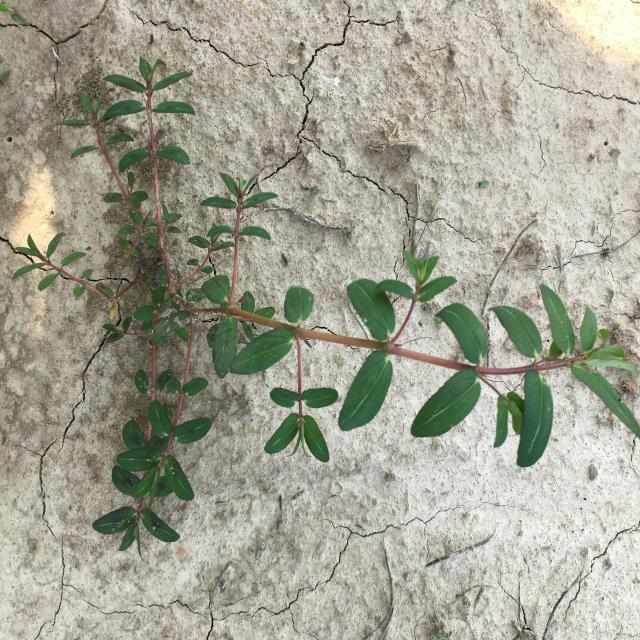SpottedSpurge: (12, 56, 640, 562)
